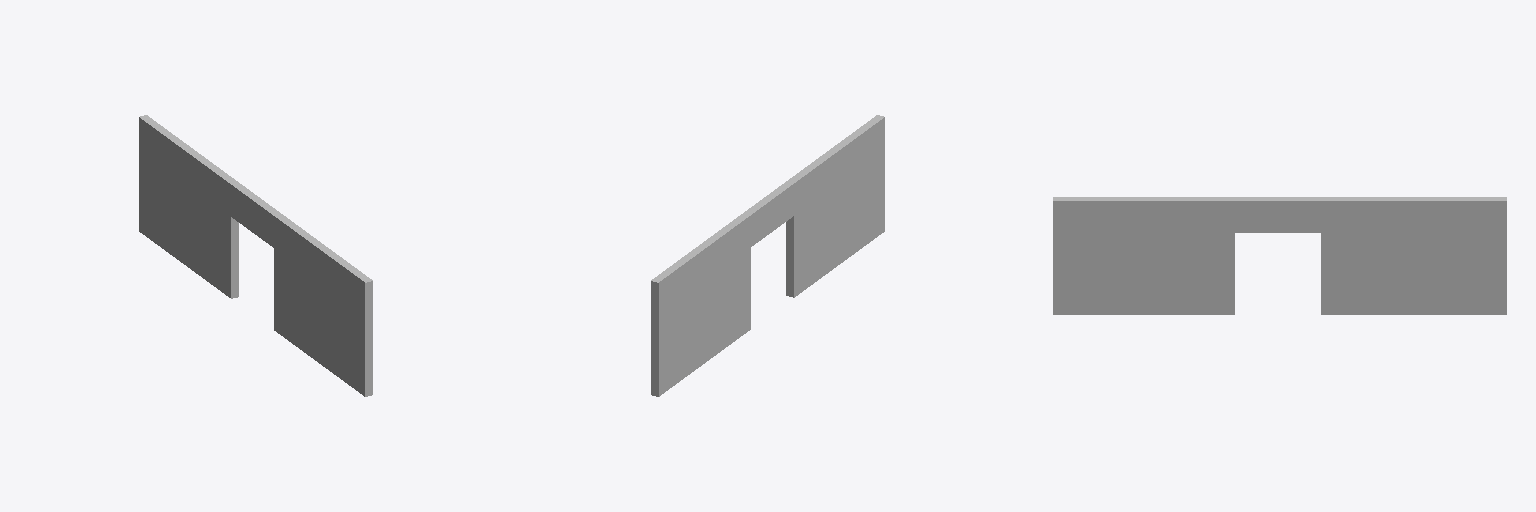
The model's file is wall1.obj.
The picture shows the model from 3 angles: view 1: azimuth 30°, elevation 25°; view 2: azimuth 150°, elevation 25°; view 3: azimuth 270°, elevation 25°; orthographic projection.
Parts seen in each view (by area): view 1: Plane, Plane.009; view 2: Plane, Plane.008; view 3: Plane.
Part boxes in pixels (x1,y1,x2,y2): Plane: (139, 115, 372, 396); Plane.009: (230, 216, 238, 298); Plane: (651, 115, 884, 396); Plane.008: (786, 215, 795, 297); Plane: (1053, 197, 1506, 314).
Size of the model in its own units: 0.402 by 5.5 by 19.77.